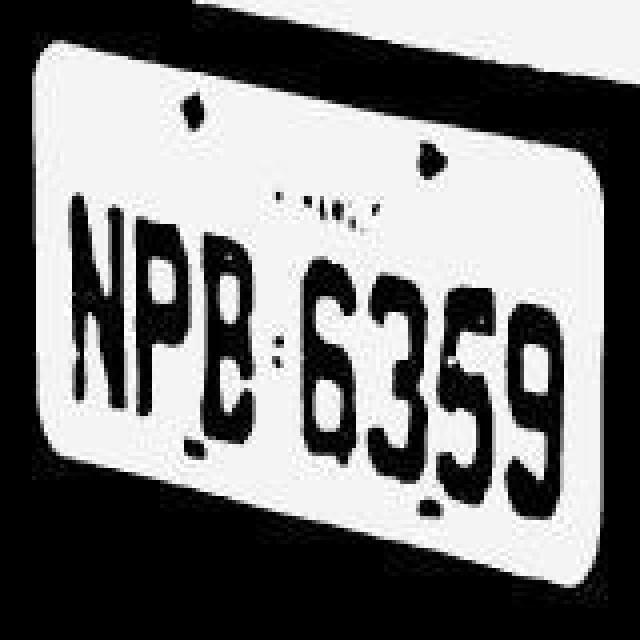3: (360, 248, 432, 496)
5: (432, 252, 504, 508)
6: (290, 246, 366, 490)
9: (508, 266, 580, 534)
B: (196, 228, 268, 452)
N: (52, 168, 124, 440)
P: (124, 176, 196, 440)
